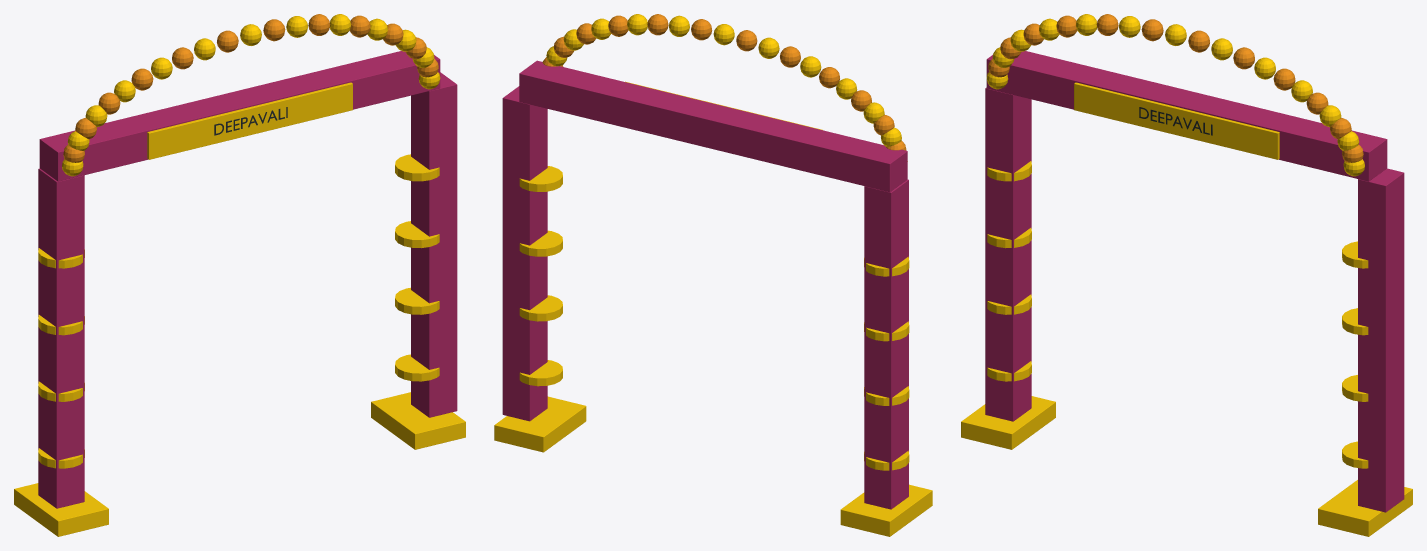
File: source-edit.glb
The picture shows the model from 3 angles, left to right: view 1: azimuth 30°, elevation 25°; view 2: azimuth 150°, elevation 25°; view 3: azimuth 330°, elevation 25°; orthographic projection. The views are drawn at different scales.
Parts seen in each view (by area): view 1: Column, Column.001, Header, Festival_Panel, Foot.001, Foot, Column_Band, Column_Band.005, Column_Band.006, Column_Band.007; view 2: Header, Column, Column.001, Foot.001, Foot, Column_Band.006, Column_Band.007, Column_Band, Column_Band.005; view 3: Column, Column.001, Header, Festival_Panel, Foot, Foot.001.
Part boxes in pixels (<box>): Column: <box>411,72,457,417</box>; Column.001: <box>38,168,84,508</box>; Header: <box>39,51,440,181</box>; Festival_Panel: <box>147,82,352,159</box>; Foot.001: <box>371,392,465,449</box>; Foot: <box>14,483,108,536</box>; Column_Band: <box>395,154,439,181</box>; Column_Band.005: <box>395,354,439,381</box>; Column_Band.006: <box>395,287,439,314</box>; Column_Band.007: <box>395,221,439,248</box>; Header: <box>519,60,907,192</box>; Column: <box>502,86,547,421</box>; Column.001: <box>864,179,908,509</box>; Foot.001: <box>494,396,586,452</box>; Foot: <box>840,484,932,536</box>; Column_Band.006: <box>519,295,562,321</box>; Column_Band.007: <box>519,230,562,256</box>; Column_Band: <box>519,166,562,191</box>; Column_Band.005: <box>519,360,562,386</box>; Column: <box>1358,168,1404,512</box>; Column.001: <box>985,87,1031,421</box>; Header: <box>986,51,1387,181</box>; Festival_Panel: <box>1074,82,1279,159</box>; Foot: <box>961,396,1055,449</box>; Foot.001: <box>1318,480,1412,536</box>.
Size of the model in its own units: 3.23 by 3.4 by 0.6.
